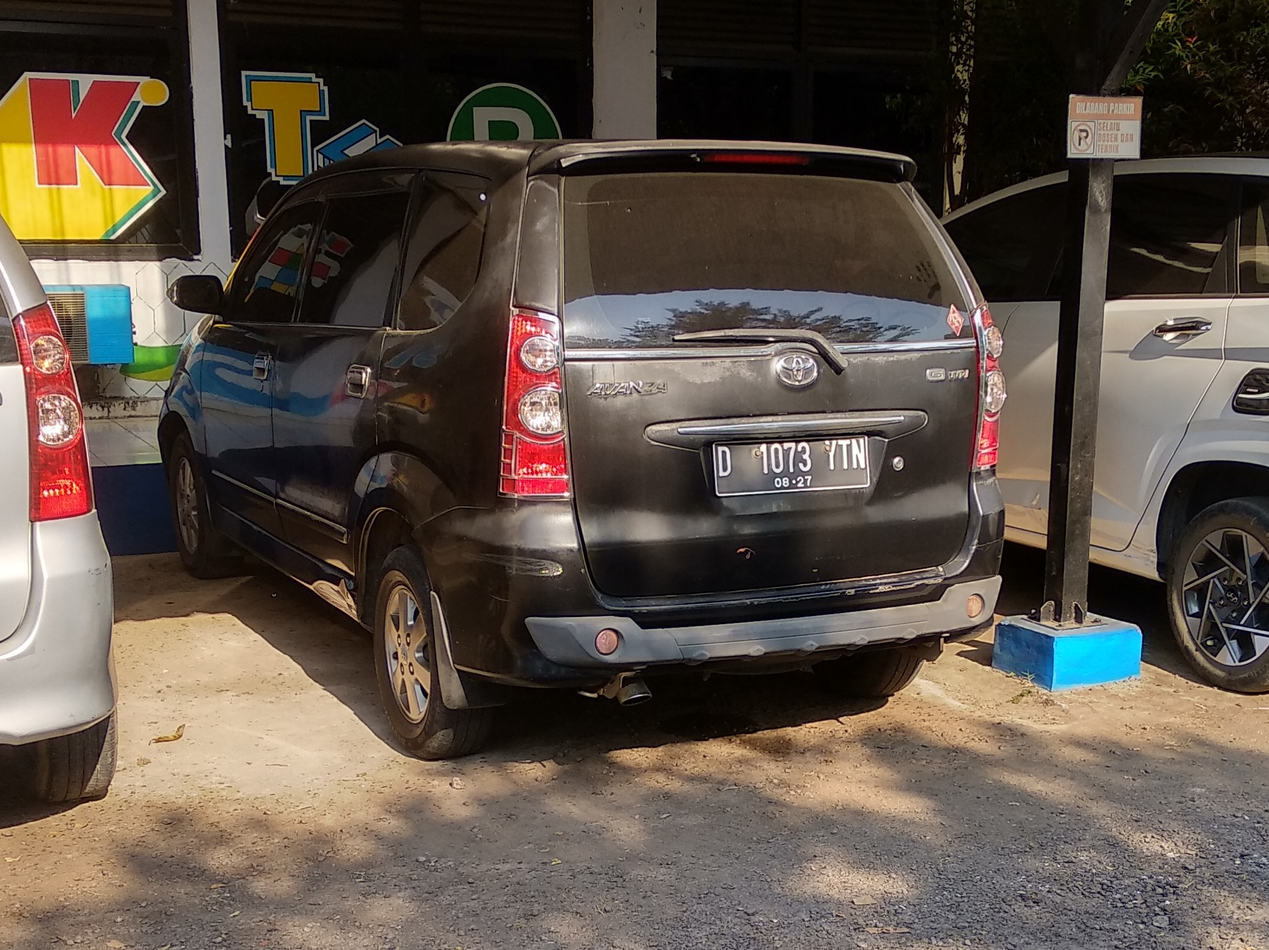plat nomor: (711, 433, 870, 500)
